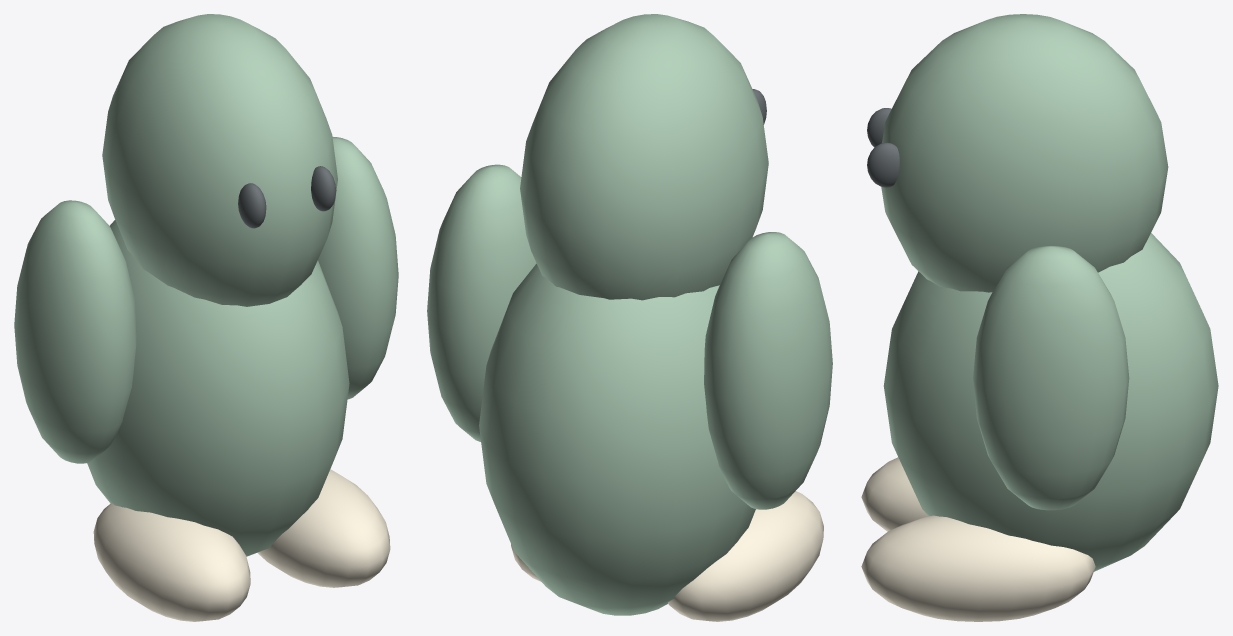
Rendered from candidate.glb.
3 renders of one model, left to right at view 1: azimuth 30°, elevation 25°; view 2: azimuth 150°, elevation 25°; view 3: azimuth 270°, elevation 25°, orthographic. The views are drawn at different scales.
Visible parts, largest first — view 1: head, body, arm (×2), foot (×2), eye (×2); view 2: body, head, arm (×2), foot; view 3: head, body, arm, foot (×2), eye (×2).
Part boxes in pixels (box(x1,y1,x2,y2)): head: box(102, 14, 337, 306); body: box(87, 220, 349, 556); arm (×2): box(14, 137, 398, 463); foot (×2): box(93, 469, 390, 621); eye (×2): box(238, 166, 336, 228); body: box(479, 263, 755, 615); head: box(520, 14, 768, 300); arm (×2): box(427, 164, 832, 509); foot: box(668, 491, 823, 621); head: box(881, 14, 1168, 292); body: box(883, 233, 1218, 571); arm: box(973, 245, 1129, 510); foot (×2): box(861, 457, 1095, 621); eye (×2): box(867, 108, 899, 187).
Bounding box in the file's own units: 0.13 × 0.19 × 0.11.
